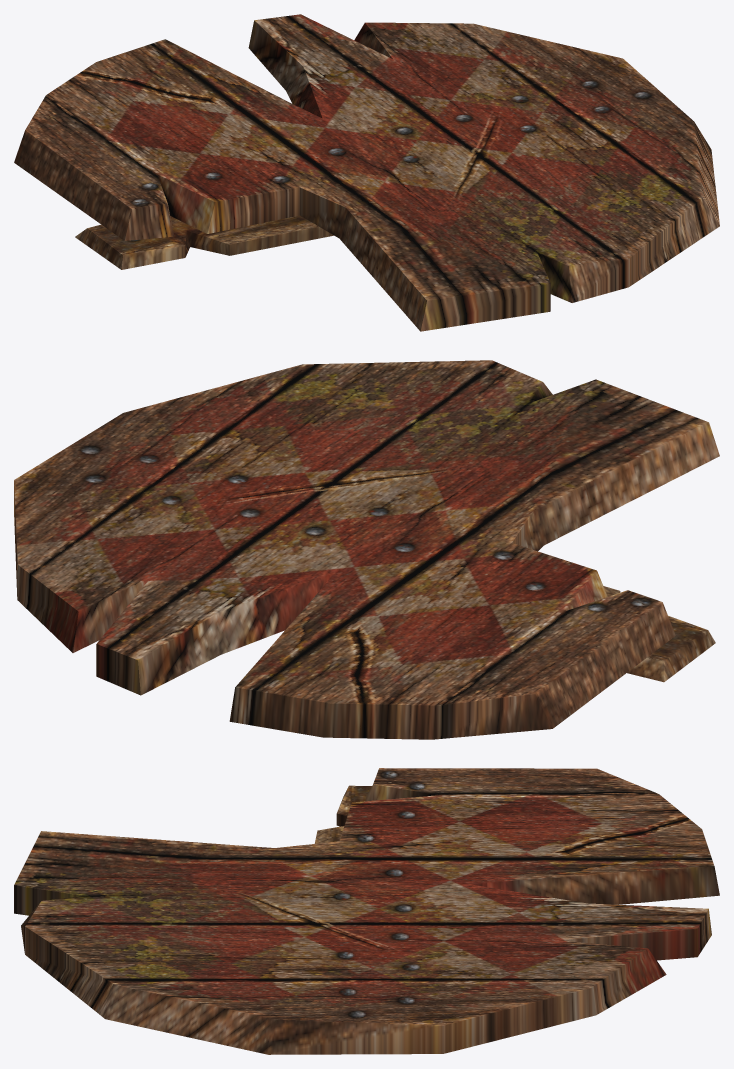
The model's file is mm9_deco_shieldbroken02.glb.
3 views of the same model, one above another, from view 1: azimuth 30°, elevation 25°; view 2: azimuth 150°, elevation 25°; view 3: azimuth 270°, elevation 25° (orthographic). The views are drawn at different scales.
Visible parts, largest first — view 1: Shieldbroken02; view 2: Shieldbroken02; view 3: Shieldbroken02.
Boxes of the visible parts, x1,y1,x2,y2 form: Shieldbroken02: (14, 14, 719, 331); Shieldbroken02: (14, 360, 719, 739); Shieldbroken02: (14, 768, 719, 1054).
Bounding box in the file's own units: 0.9745 × 0.0689 × 1.07.
Materials: 1 (1 with a texture image).
